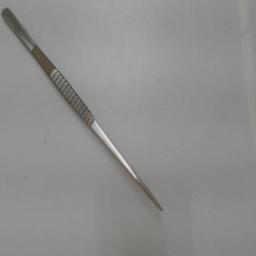DeBakey Dissector: (1, 3, 175, 223)
